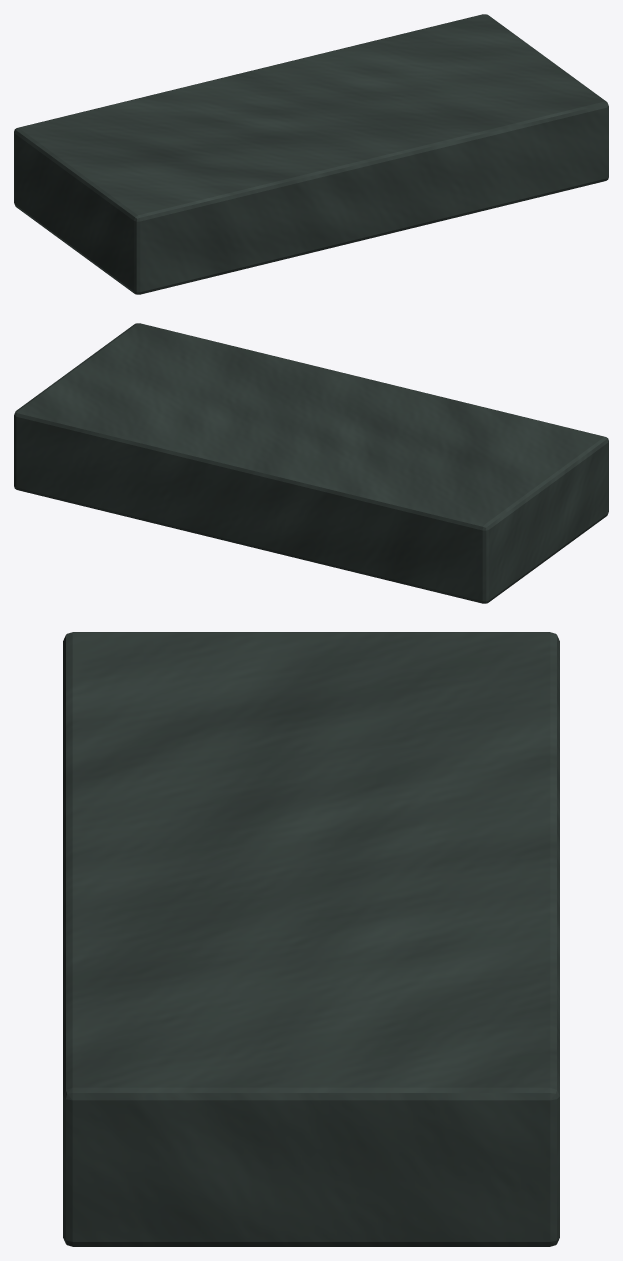
The model's file is lf_clamp-lod0.gltf.
3 views of the same model, one above another, from view 1: azimuth 30°, elevation 25°; view 2: azimuth 150°, elevation 25°; view 3: azimuth 270°, elevation 25° (orthographic). The views are drawn at different scales.
Visible parts, largest first — view 1: lf_clamp LOD0 lf_clamp; view 2: lf_clamp LOD0 lf_clamp; view 3: lf_clamp LOD0 lf_clamp.
Part boxes in pixels (x1,y1,x2,y2): lf_clamp LOD0 lf_clamp: (14, 14, 608, 294); lf_clamp LOD0 lf_clamp: (14, 323, 608, 603); lf_clamp LOD0 lf_clamp: (63, 632, 559, 1246).
Size of the model in its own units: 0.75 by 0.12 by 0.34.
1 material, 1 textured.
